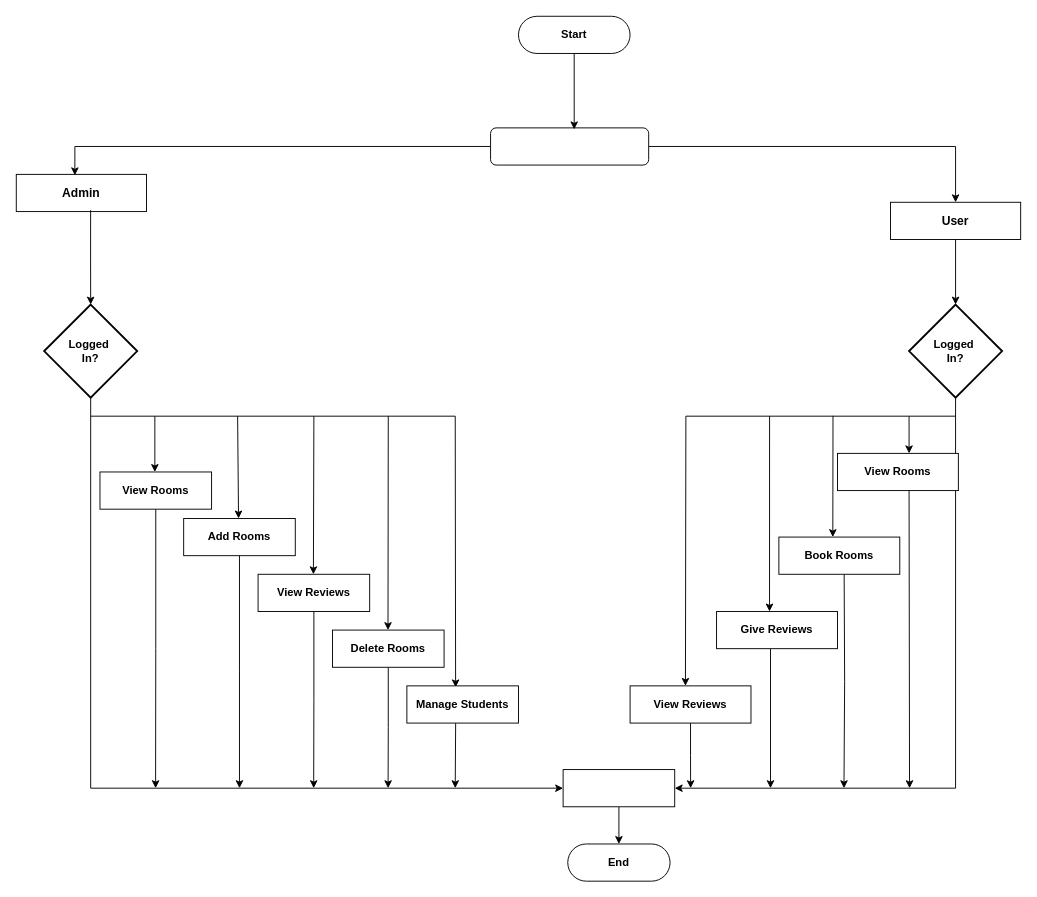
This 1037x897 diagram has some shape labels left out. Each missing label, with the centre of its shape:
"Hostel Management System" goes at point 569,146.
"Logout" goes at point 618,788.
